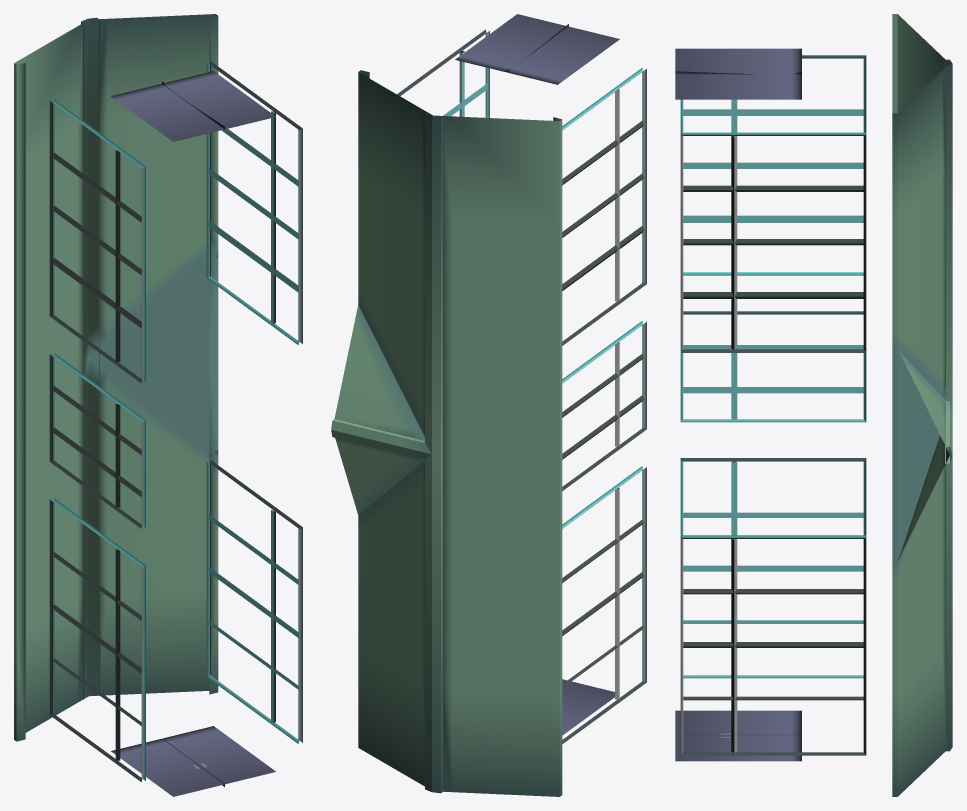
Rendered from SM_000232_w40h003_001roka_metal01_lv2.fbx.
The picture shows the model from 3 angles, left to right: view 1: azimuth 30°, elevation 25°; view 2: azimuth 150°, elevation 25°; view 3: azimuth 270°, elevation 25°; orthographic projection.
Visible parts, largest first — view 1: SM_000232.001; view 2: SM_000232.001; view 3: SM_000232.001.
Part boxes in pixels (<box>): SM_000232.001: <box>14,14,302,796</box>; SM_000232.001: <box>331,14,646,796</box>; SM_000232.001: <box>675,14,952,796</box>.
Size of the model in its own units: 4.5 by 14.42 by 5.3.
